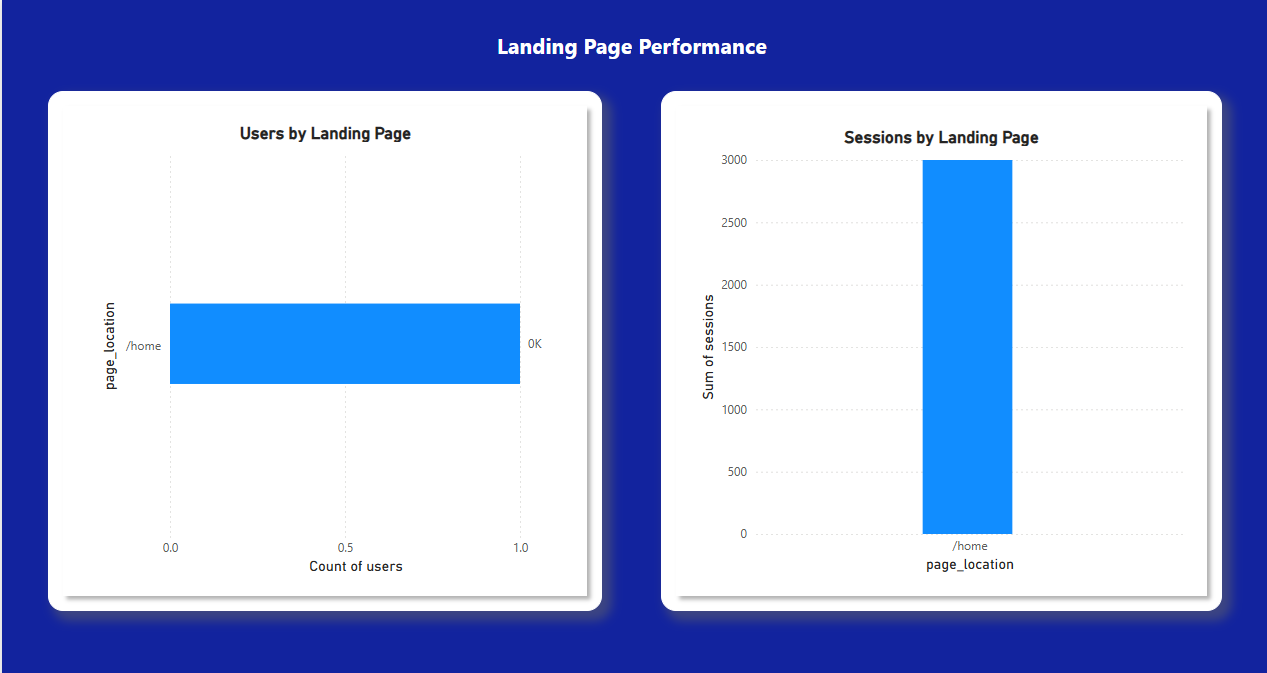

This screenshot's page, from the dashboard's own definition file:
{"tool":"powerbi","page":{"name":"Landing Page Performance","canvas":[1280,720],"ordinal":4},"visuals":[{"type":"shape","box":[658.7,92.4,561.8,520],"z":0},{"type":"shape","box":[46.2,92.4,553.8,520],"z":1000},{"type":"clusteredBarChart","title":"Users by Landing Page","fields":{"Category":["landing_page_summary.page_location"],"Y":["CountNonNull(landing_page_summary.users)"]},"box":[94.2,124.4,458.7,456],"z":2000},{"type":"clusteredColumnChart","title":"Sessions by Landing Page","fields":{"Category":["landing_page_summary.page_location"],"Y":["Sum(landing_page_summary.sessions)"]},"box":[693.3,128,492.4,449.8],"z":3000},{"type":"textbox","box":[489.8,26.7,299.6,38.2],"z":3001}]}

Visuals, with their boxes on the page's 1280x720 design canvas (x1, y1, x2, y2). These are canvas units, not pixel positions in the 1267x673 screenshot, which may show the page scaled, cropped or inside an application window:
shape: <box>659,92,1220,612</box>
shape: <box>46,92,600,612</box>
"Users by Landing Page" clusteredBarChart: <box>94,124,553,580</box>
"Sessions by Landing Page" clusteredColumnChart: <box>693,128,1186,578</box>
textbox: <box>490,27,789,65</box>
